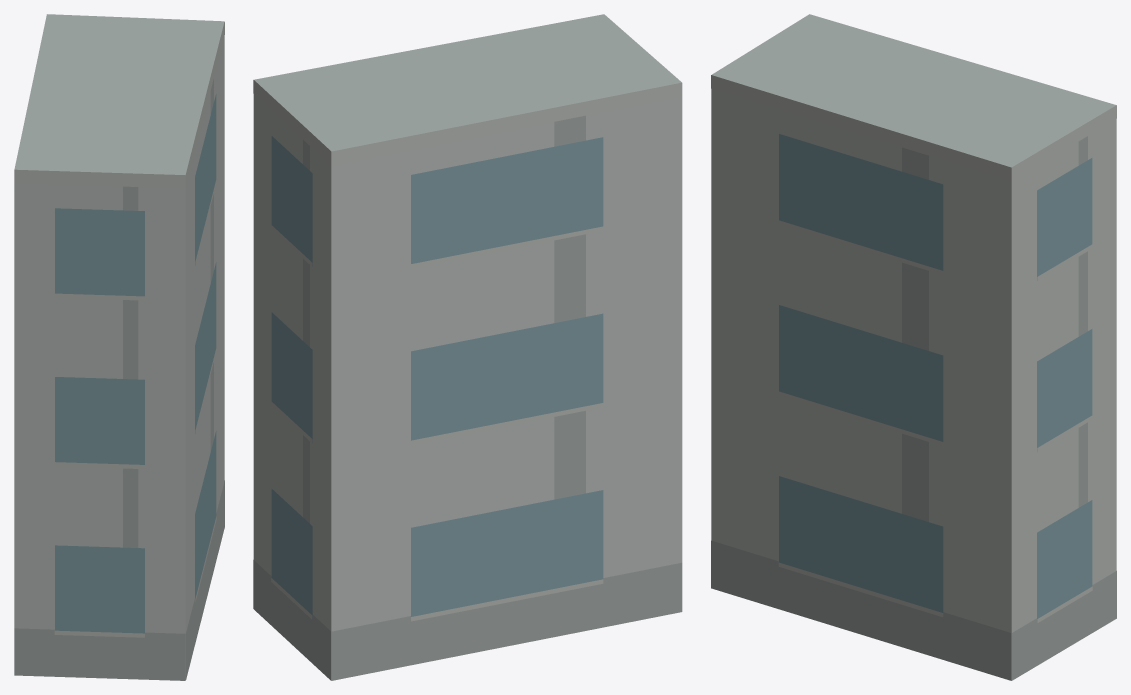
File: survey-upis-32571563.glb
The picture shows the model from 3 angles, left to right: view 1: azimuth 30°, elevation 25°; view 2: azimuth 150°, elevation 25°; view 3: azimuth 270°, elevation 25°; orthographic projection. The views are drawn at different scales.
Parts seen in each view (by area): view 1: survey-upis-32571563.tmp; view 2: survey-upis-32571563.tmp; view 3: survey-upis-32571563.tmp.
Boxes of the visible parts, x1,y1,x2,y2 form: survey-upis-32571563.tmp: (14, 14, 224, 680); survey-upis-32571563.tmp: (253, 14, 682, 680); survey-upis-32571563.tmp: (711, 14, 1116, 680).
Size of the model in its own units: 5.88 by 9.15 by 6.56.
